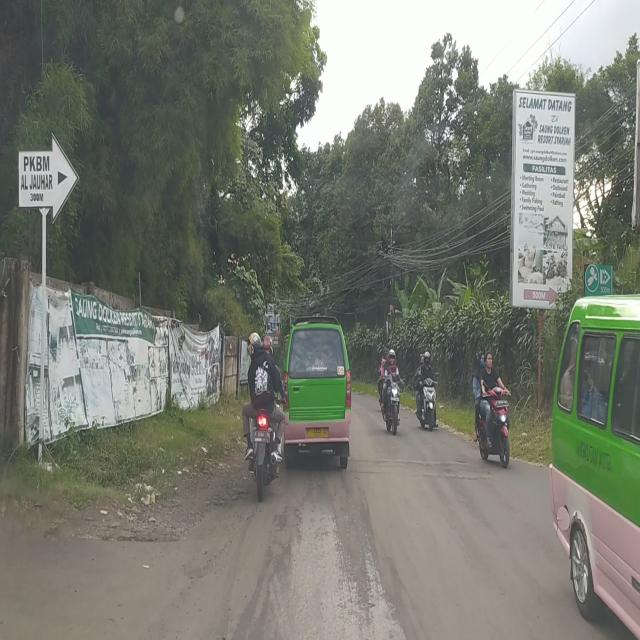Drain Hole: (214, 479, 248, 513)
